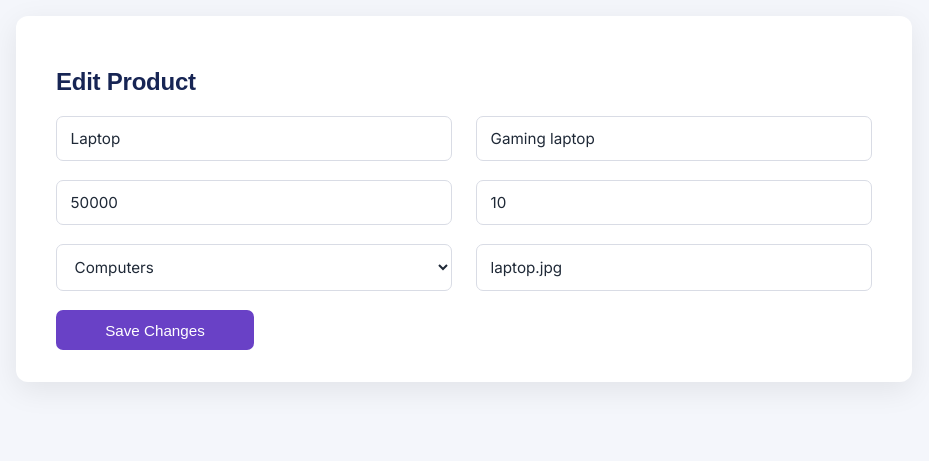
Scenario: EditProduct page › shows an error when updating the product fails
Check: the 1st field showing "Laptop" is shown, box [56,116,452,161]
Click the button "Save Changes": [155, 330] box [56,310,254,350]
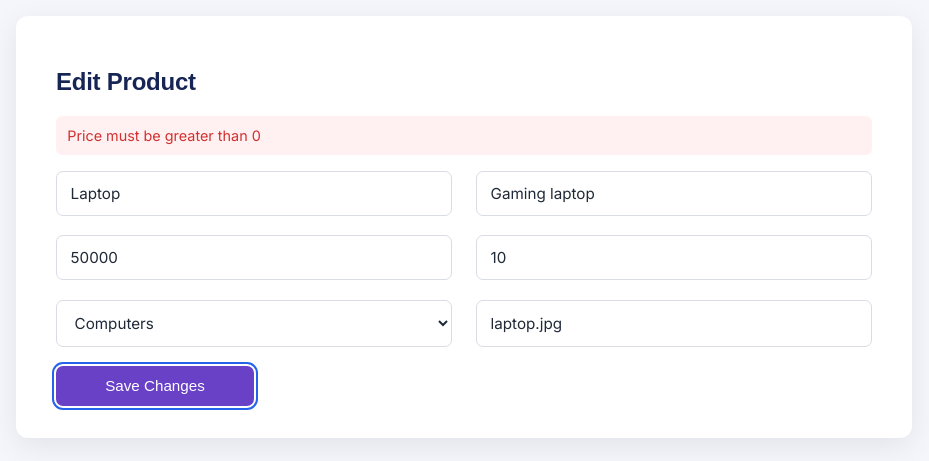
Check: the text "Price must be greater than 0" is shown, box [67,127,261,144]
